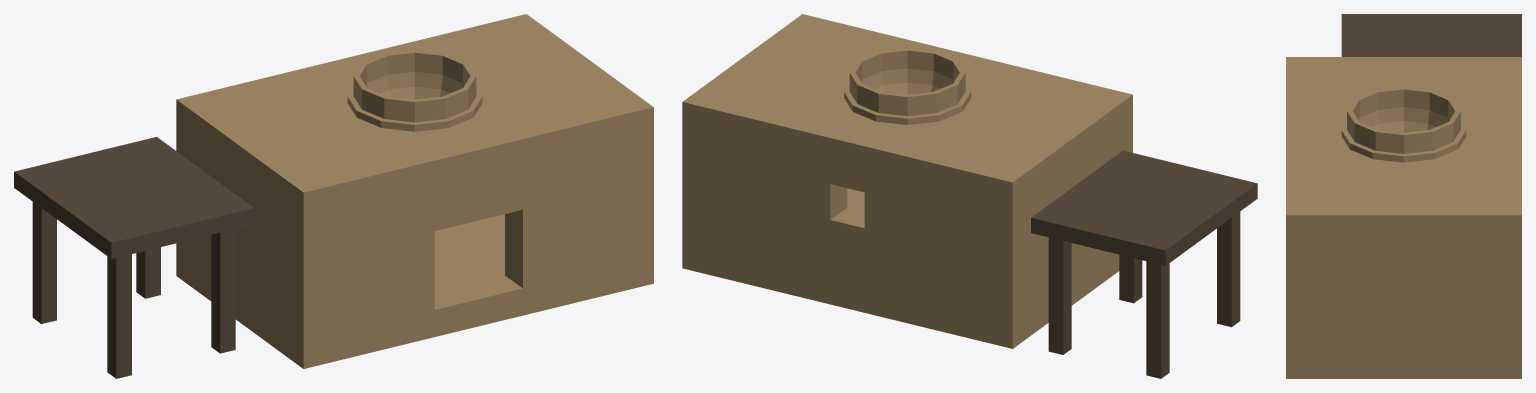
File: W2-stove-A-LOD2.glb
3 renders of one model, left to right at view 1: azimuth 30°, elevation 25°; view 2: azimuth 150°, elevation 25°; view 3: azimuth 270°, elevation 25°, orthographic. The views are drawn at different scales.
Visible parts, largest first — view 1: C_LIFE_W2_STOVE_A_V1__A_earth, C_LIFE_W2_STOVE_A_V1__A_timber; view 2: C_LIFE_W2_STOVE_A_V1__A_earth, C_LIFE_W2_STOVE_A_V1__A_timber; view 3: C_LIFE_W2_STOVE_A_V1__A_earth, C_LIFE_W2_STOVE_A_V1__A_timber.
Part boxes in pixels (x1,y1,x2,y2): C_LIFE_W2_STOVE_A_V1__A_earth: (176,14,653,368); C_LIFE_W2_STOVE_A_V1__A_timber: (14,137,254,378); C_LIFE_W2_STOVE_A_V1__A_earth: (682,14,1132,348); C_LIFE_W2_STOVE_A_V1__A_timber: (1031,150,1257,378); C_LIFE_W2_STOVE_A_V1__A_earth: (1286,57,1521,378); C_LIFE_W2_STOVE_A_V1__A_timber: (1341,14,1521,56).
Size of the model in its own units: 1.97 by 0.75 by 0.85.
